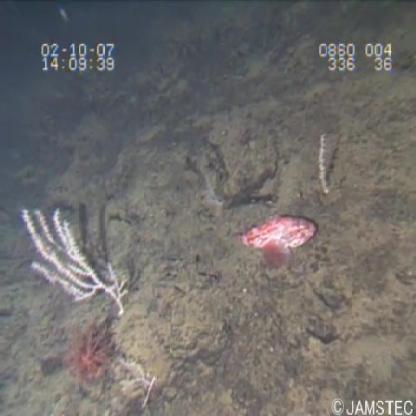Bio: (16, 203, 132, 326), (232, 207, 324, 275)
